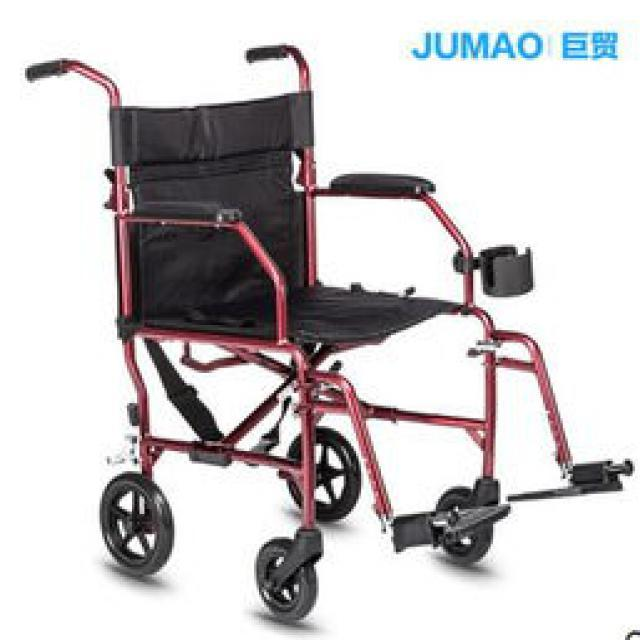wheelchair: (15, 40, 638, 628)
